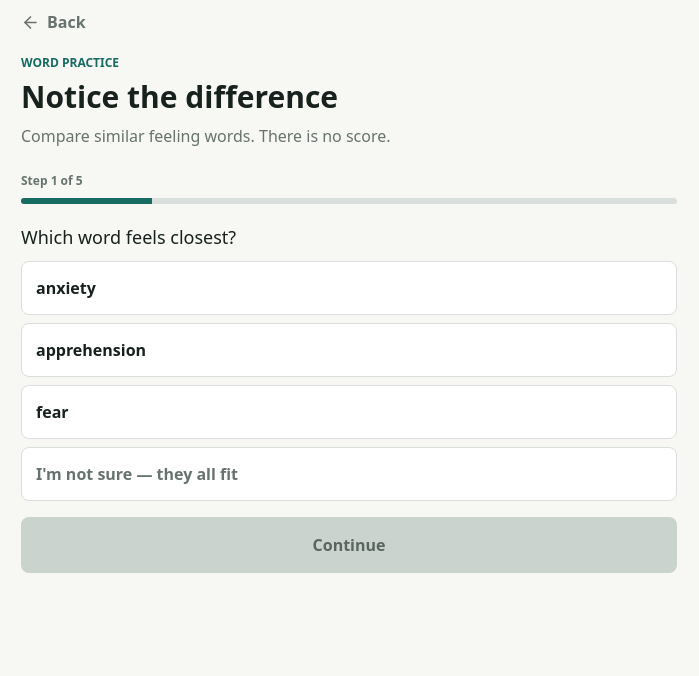
Scenario: GranularityTraining › shows immediate feedback after selecting an emotion option
Click the button "anxiety": [66, 288] box [21,261,677,315]
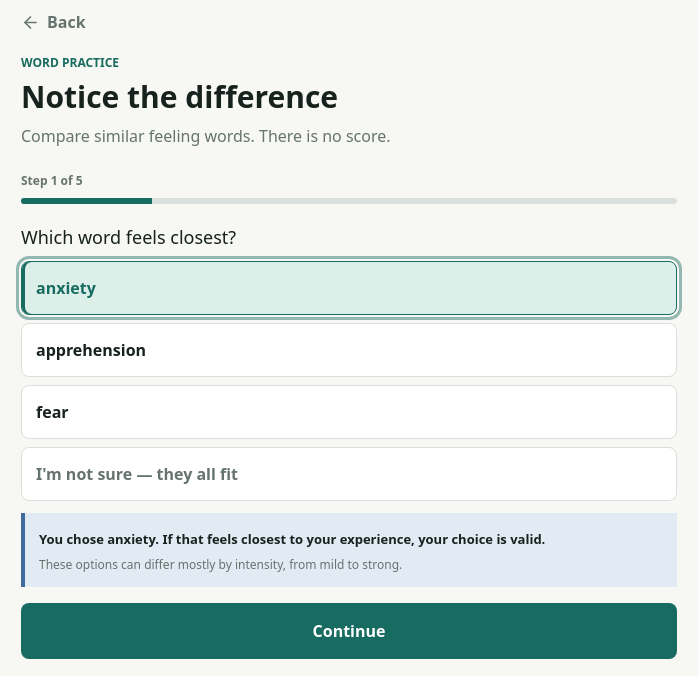
Now the text "You chose anxiety" is shown, box [39,530,545,548]
Now the text "differ mostly by intensity" is shown, box [39,556,402,573]
Now the button "Continue" is enabled, box [21,603,677,659]
